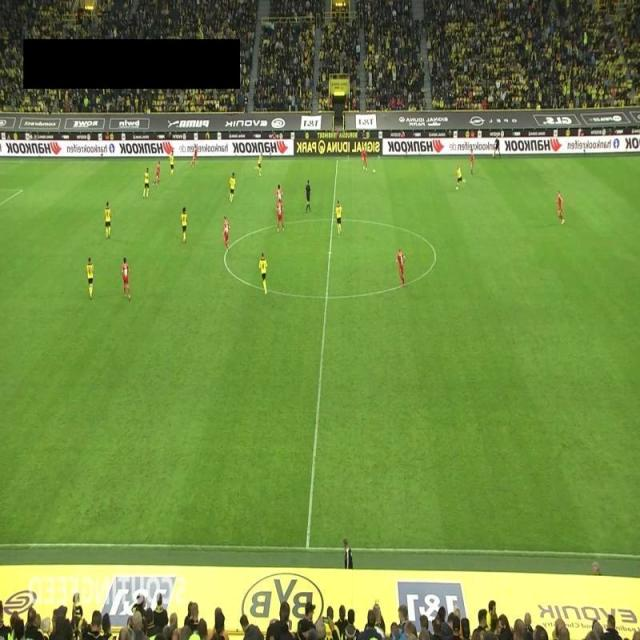bigarea_top_inner: (16, 184, 27, 196)
halfcircle_bottom: (320, 290, 333, 304)
halfcircle_top: (327, 213, 338, 226)
midline_bottom_intersection: (300, 539, 314, 556)
midline_top_intersection: (332, 154, 342, 165)
